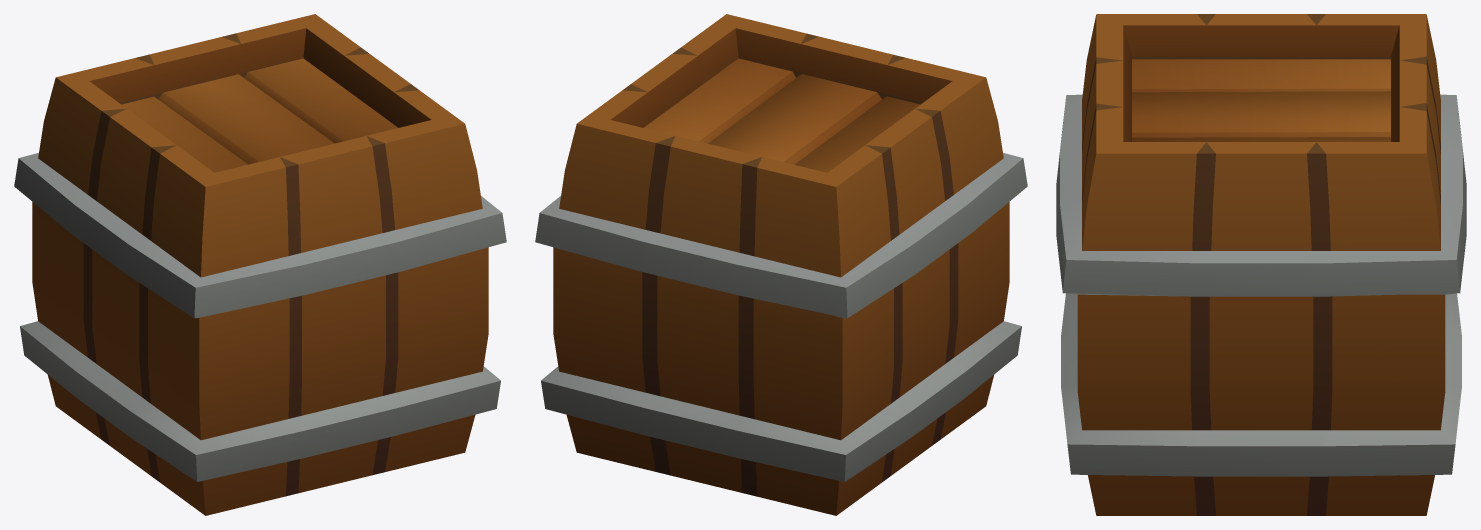
The model's file is barrel.fbx.
The picture shows the model from 3 angles, left to right: view 1: azimuth 30°, elevation 25°; view 2: azimuth 150°, elevation 25°; view 3: azimuth 270°, elevation 25°; orthographic projection. The views are drawn at different scales.
Visible parts, largest first — view 1: body, lid; view 2: body, lid; view 3: body, lid.
Boxes of the visible parts, left/top/right/bottom form: body: left=14, top=14, right=506, bottom=515; lid: left=121, top=58, right=397, bottom=172; body: left=535, top=14, right=1027, bottom=515; lid: left=644, top=58, right=920, bottom=172; body: left=1056, top=14, right=1466, bottom=515; lid: left=1132, top=59, right=1390, bottom=141.
Size of the model in its own units: 1.06 by 1.03 by 1.06.
